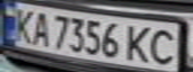3: (63, 16, 87, 54)
5: (81, 17, 106, 56)
6: (100, 20, 127, 60)
7: (48, 12, 72, 51)
A: (27, 8, 54, 47)
C: (145, 26, 181, 66)
K: (124, 22, 154, 64), (9, 6, 39, 44)
